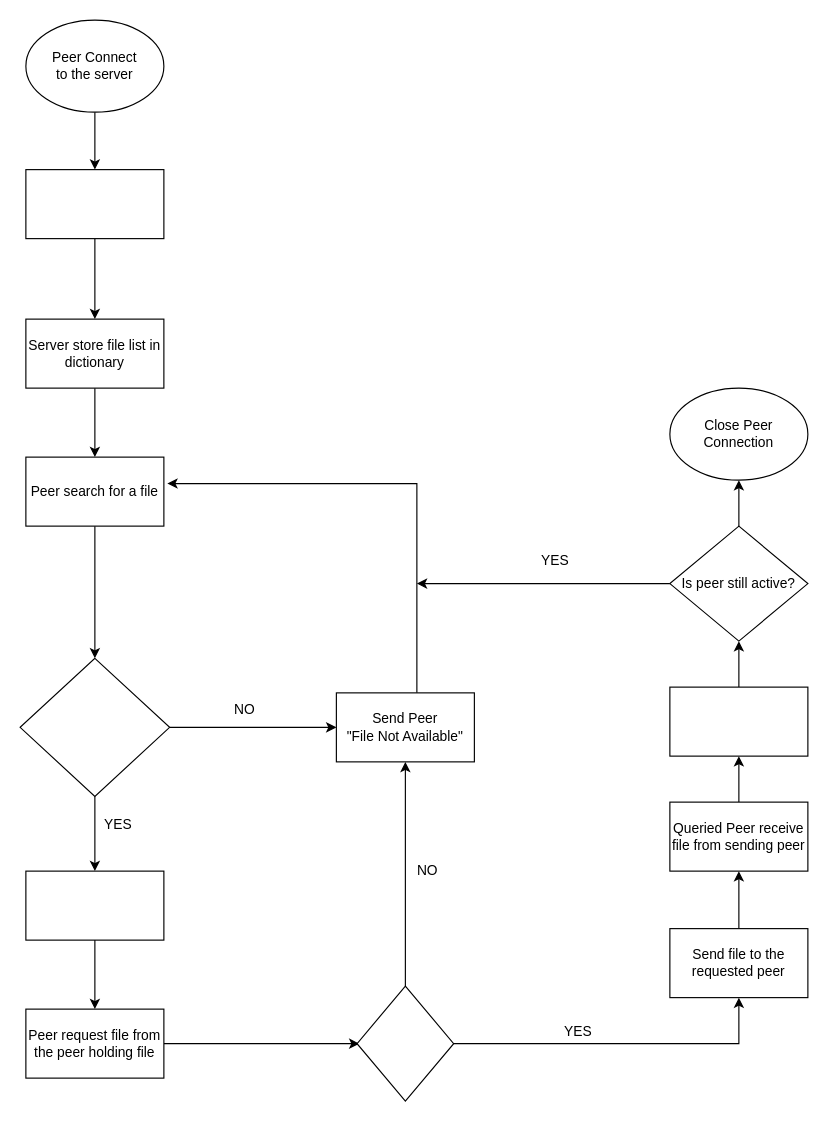
This 828x1121 diagram has some shape labels left out. Here are the shapes that lost their labels. From the top down, the centre of each, then its label:
At [94,203]: "Peer share its file list to the server".
At [94,726]: "Is file available on active peer?".
At [738,721]: "Peer update its file list on index server after receiving file".
At [94,905]: "Server send peer ID, Port No. of file holding peer".
At [405,1043]: "Is peer has file?".
